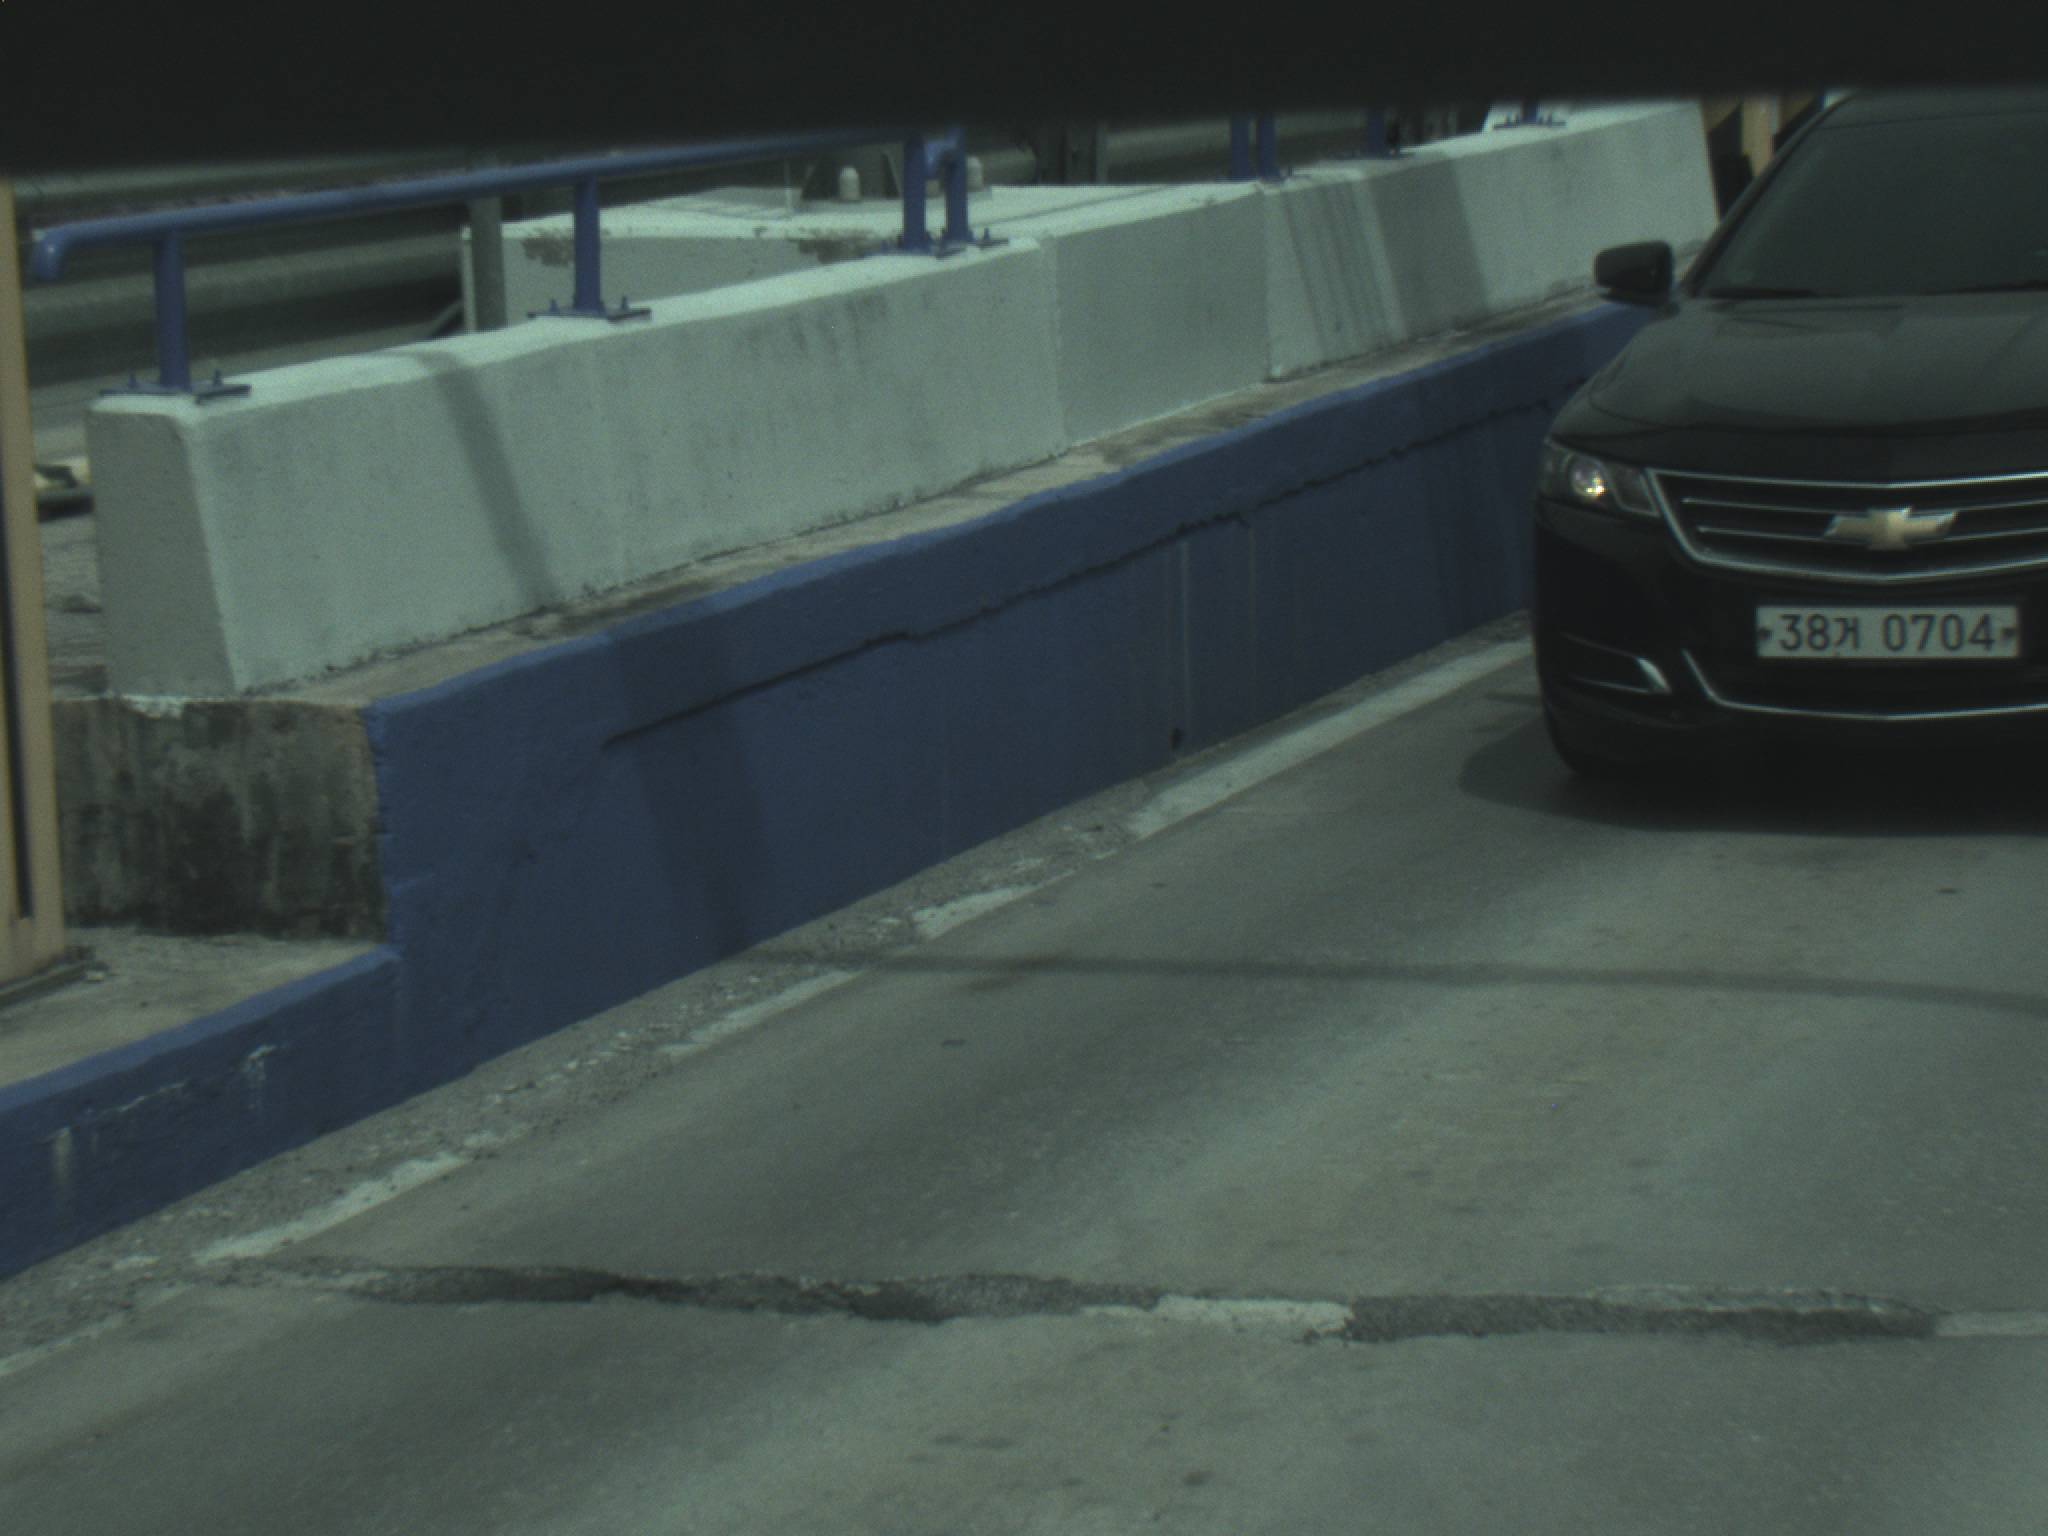car: (1510, 72, 2044, 821)
plate: (1748, 596, 2023, 668)
